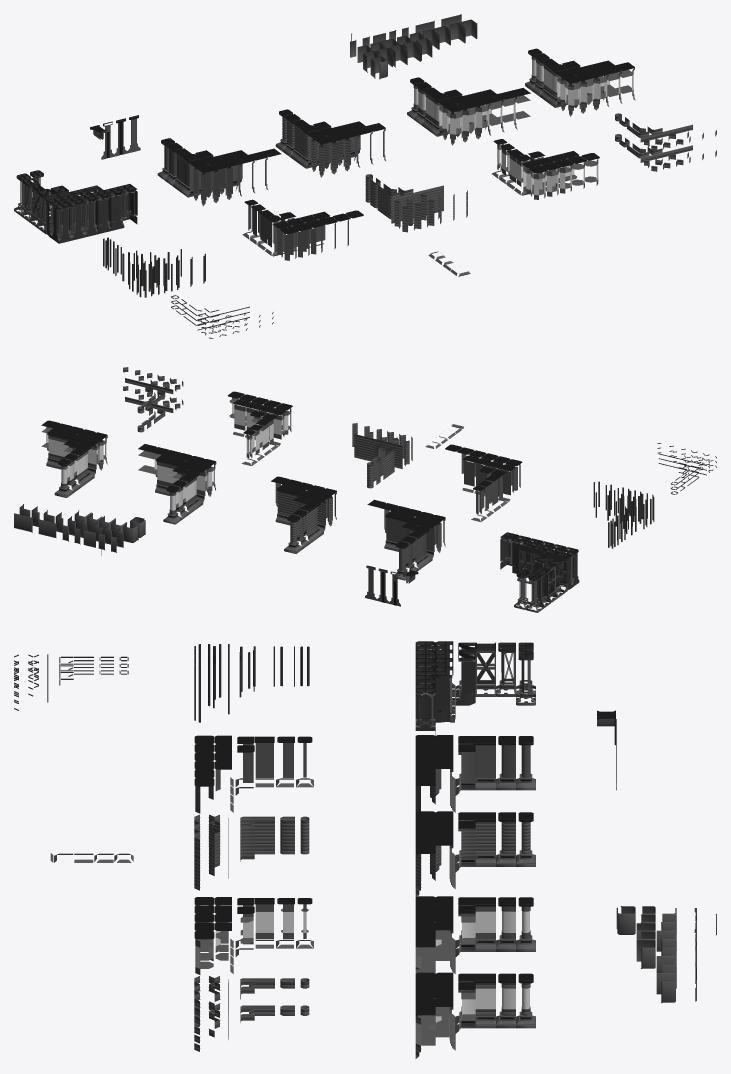
The model's file is SteelWalls.fbx.
The picture shows the model from 3 angles, top to bottom: view 1: azimuth 30°, elevation 25°; view 2: azimuth 150°, elevation 25°; view 3: azimuth 270°, elevation 25°; orthographic projection. The views are drawn at different scales.
Parts seen in each view (by area): view 1: SteelGirderX1, SteelGirderX5, SteelGirderX4, SteelGirderX6, SteelGirderX2, SteelGirderX3, SteelWindowX1, SteelReinforcedWindowX1, SteelReinforcedWallX1, SteelWallX1; view 2: SteelReinforcedWindowT4, SteelWallT4, SteelReinforcedWallT4, SteelWindowT4, SteelGirderT1, SteelGirderX6, SteelGirderI, SteelWindowT1, SteelGirderT4, SteelWindowSheetsT4, SteelWallI, SteelReinforcedWindowT1 (+1 smaller); view 3: SteelReinforcedWindowI, SteelWindowI, SteelWallI, SteelReinforcedWallI, SteelGirderX6, SteelGirderT4, SteelWallSheetsI, SteelGirderI, SteelReinforcedWindowU, SteelGirderL2, SteelWallU, SteelReinforcedWallU (+14 smaller).
Boxes of the visible parts, box(x1,y1,x2,y2) form: SteelGirderX1: box(51, 200, 71, 243); SteelGirderX5: box(104, 187, 124, 230); SteelGirderX4: box(92, 190, 111, 234); SteelGirderX6: box(117, 184, 137, 224); SteelGirderX2: box(65, 196, 84, 240); SteelGirderX3: box(78, 193, 97, 237); SteelWindowX1: box(445, 104, 464, 145); SteelReinforcedWindowX1: box(563, 75, 582, 116); SteelReinforcedWallX1: box(314, 136, 333, 177); SteelWallX1: box(196, 165, 215, 206); SteelReinforcedWindowT4: box(46, 428, 64, 468); SteelWallT4: box(384, 511, 402, 551); SteelReinforcedWallT4: box(275, 484, 294, 524); SteelWindowT4: box(155, 455, 173, 495); SteelGirderT1: box(554, 552, 572, 592); SteelGirderX6: box(500, 532, 518, 569); SteelGirderI: box(541, 562, 558, 602); SteelWindowT1: box(192, 464, 209, 501); SteelGirderT4: box(517, 543, 535, 583); SteelWindowSheetsT4: box(233, 399, 249, 436); SteelWallI: box(408, 530, 425, 570); SteelReinforcedWindowT1: box(83, 437, 100, 475); SteelReinforcedWindowI: box(475, 973, 495, 1028); SteelWindowI: box(475, 897, 495, 951); SteelWallI: box(475, 736, 495, 790); SteelReinforcedWallI: box(475, 812, 495, 866); SteelGirderX6: box(415, 684, 435, 735); SteelGirderT4: box(435, 667, 455, 722); SteelWallSheetsI: box(255, 736, 274, 787); SteelGirderI: box(475, 642, 495, 696); SteelReinforcedWindowU: box(496, 973, 515, 1028); SteelGirderL2: box(455, 651, 475, 705); SteelWallU: box(496, 736, 515, 790); SteelReinforcedWallU: box(496, 812, 515, 866).
Size of the model in its own units: 44 by 2.61 by 34.98.
